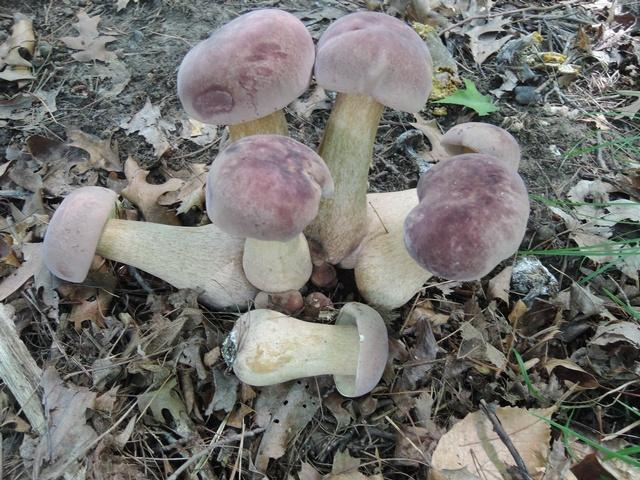Non-edible Mushroom: (304, 10, 434, 265), (41, 182, 240, 314), (211, 290, 394, 404), (204, 132, 334, 292), (175, 7, 315, 143)
